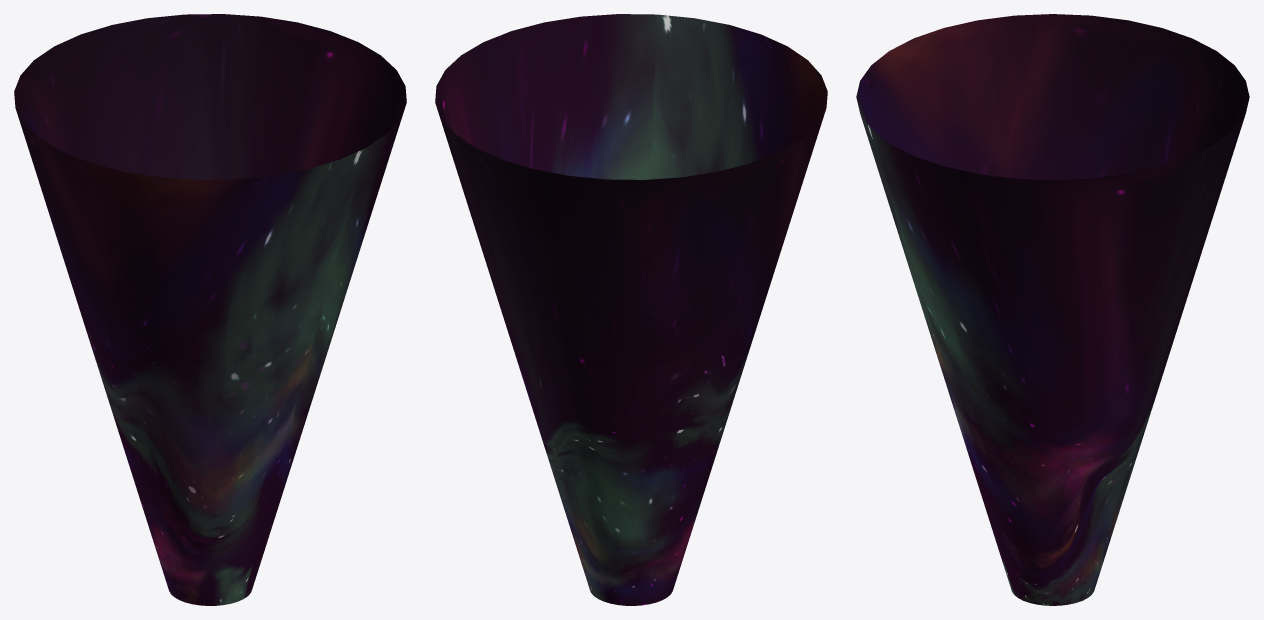
The model's file is VortexOut.fbx.
3 views of the same model, side by side, from view 1: azimuth 30°, elevation 25°; view 2: azimuth 150°, elevation 25°; view 3: azimuth 270°, elevation 25° (orthographic).
Parts seen in each view (by area): view 1: Circle; view 2: Circle; view 3: Circle.
Part boxes in pixels (x1,y1,x2,y2): Circle: [14, 14, 406, 605]; Circle: [435, 14, 827, 605]; Circle: [856, 14, 1249, 605].
Bounding box in the file's own units: 3995 × 5504 × 3995.
